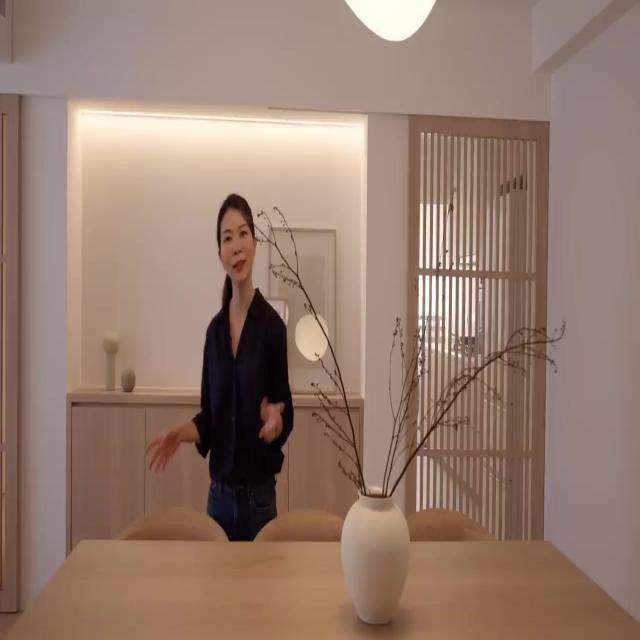obstacle: (2, 536, 638, 638)
person: (146, 192, 294, 540)
